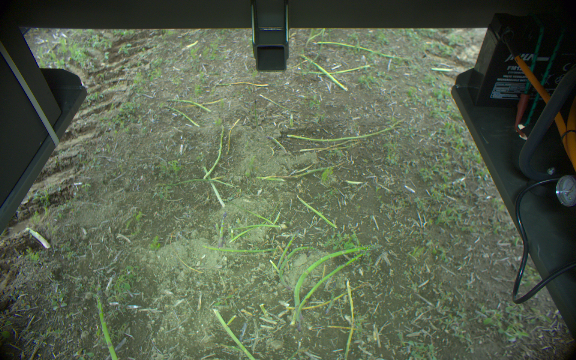aspa: (290, 240, 381, 333), (210, 307, 258, 360), (91, 288, 124, 360), (299, 51, 349, 97), (213, 210, 231, 250), (323, 288, 340, 319)
